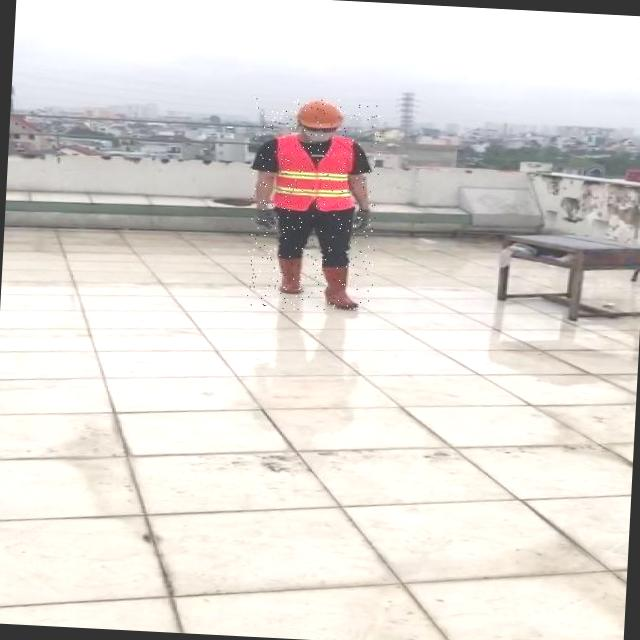boots: (320, 263, 360, 309), (274, 256, 306, 296)
gloves: (350, 206, 374, 234), (256, 204, 277, 230)
helmet: (294, 98, 346, 130)
vest: (270, 134, 358, 214)
